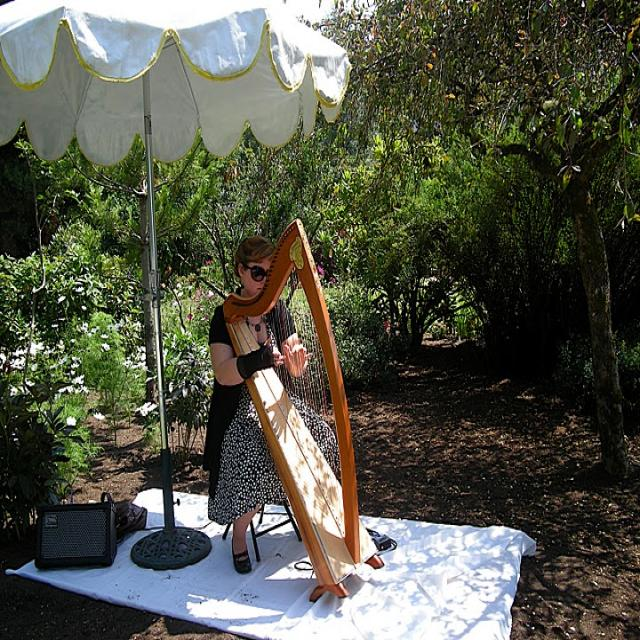harp: (222, 217, 380, 599)
